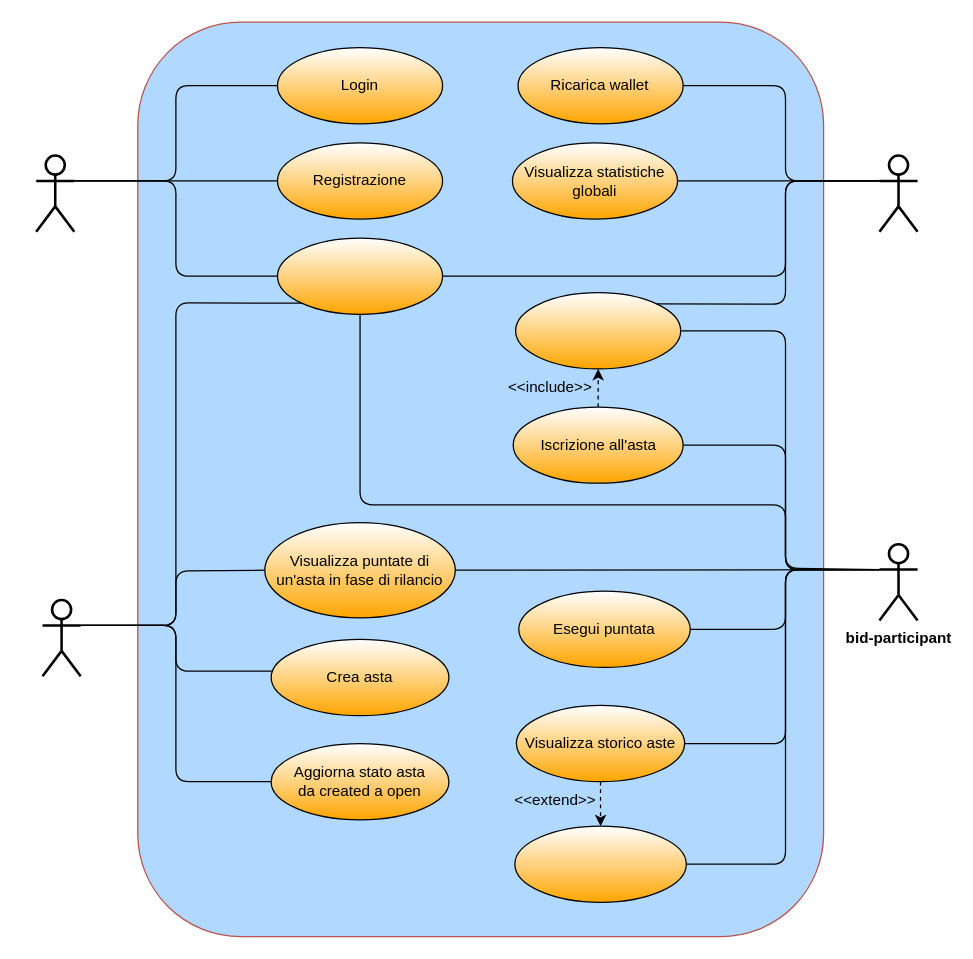
The diagram is 973 pixels wide and 959 high, and some of its shapes have lost their labels. The centre of each missing label's shape, as x and y in pixels:
"admin" goes at point (898, 193).
"bid-creator" goes at point (61, 637).
"guest" goes at point (54, 193).
"Verifica credito residuto" goes at point (597, 330).
"Visualizza elenco aste" goes at point (359, 275).
"Visualizza spesa effettuata" goes at point (600, 863).
